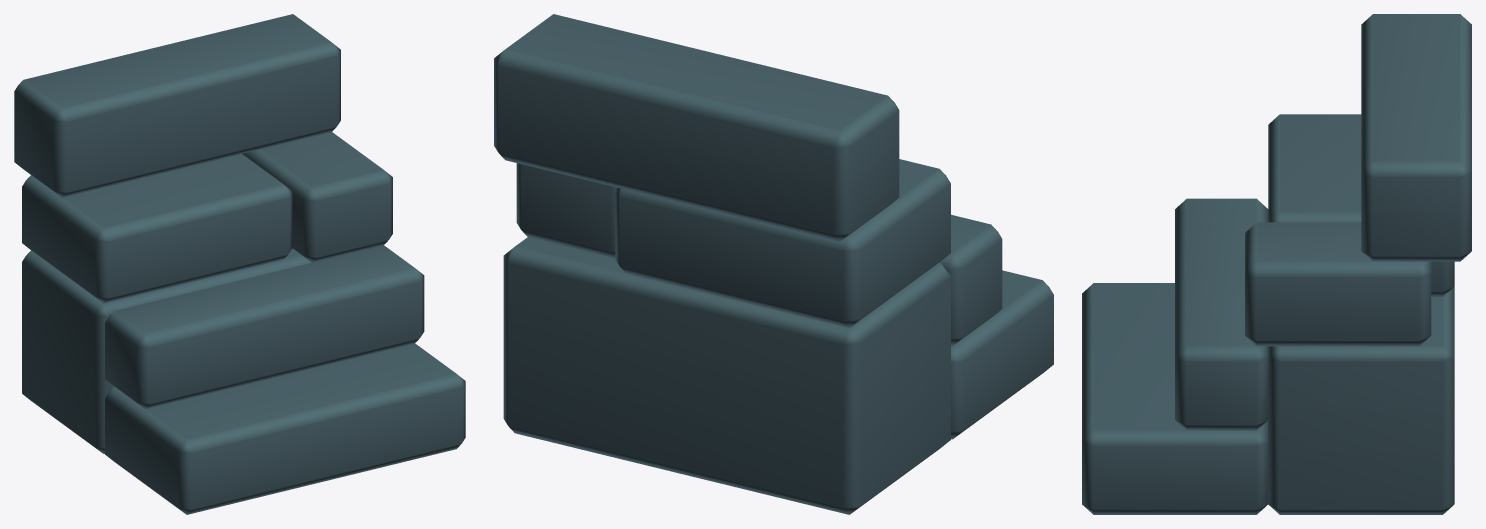
The model's file is stair_straight_1_hue_2.fbx.
3 renders of one model, left to right at view 1: azimuth 30°, elevation 25°; view 2: azimuth 150°, elevation 25°; view 3: azimuth 270°, elevation 25°, orthographic. The views are drawn at different scales.
Parts seen in each view (by area): view 1: stair_straight_1_hue_2; view 2: stair_straight_1_hue_2; view 3: stair_straight_1_hue_2.
Part boxes in pixels (bbox=[...]): stair_straight_1_hue_2: bbox=[14, 14, 465, 514]; stair_straight_1_hue_2: bbox=[494, 14, 1053, 514]; stair_straight_1_hue_2: bbox=[1082, 14, 1471, 514].
Size of the model in its own units: 100 by 105 by 105.
